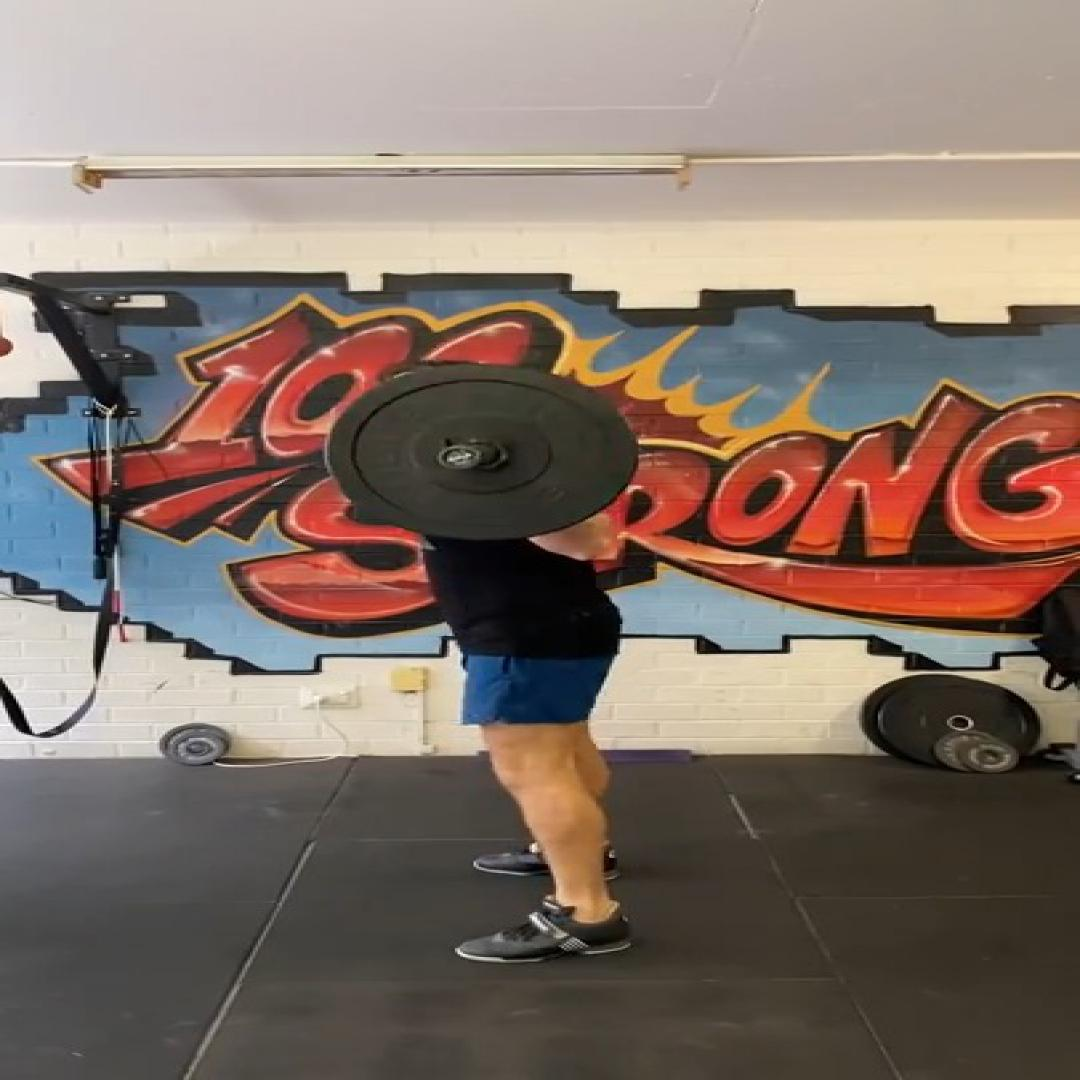Bar: (435, 444, 485, 471)
Barbell: (323, 364, 640, 542)
